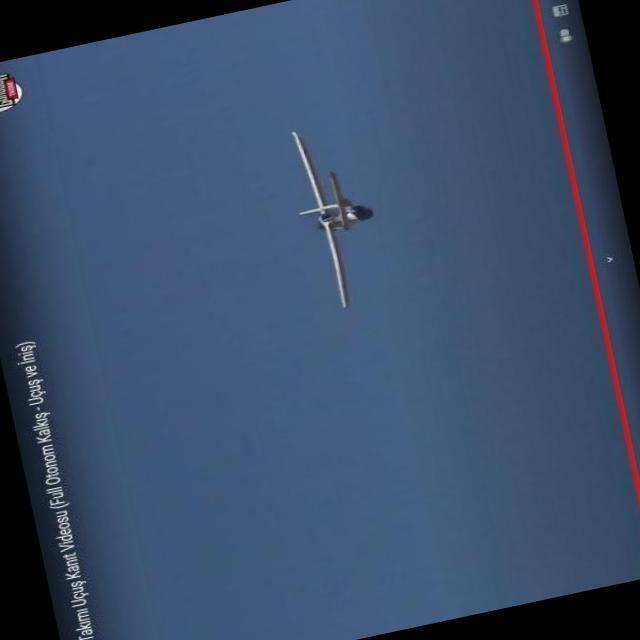iha: (258, 95, 417, 316)
